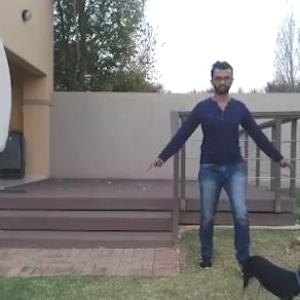land: (162, 68, 276, 265)
